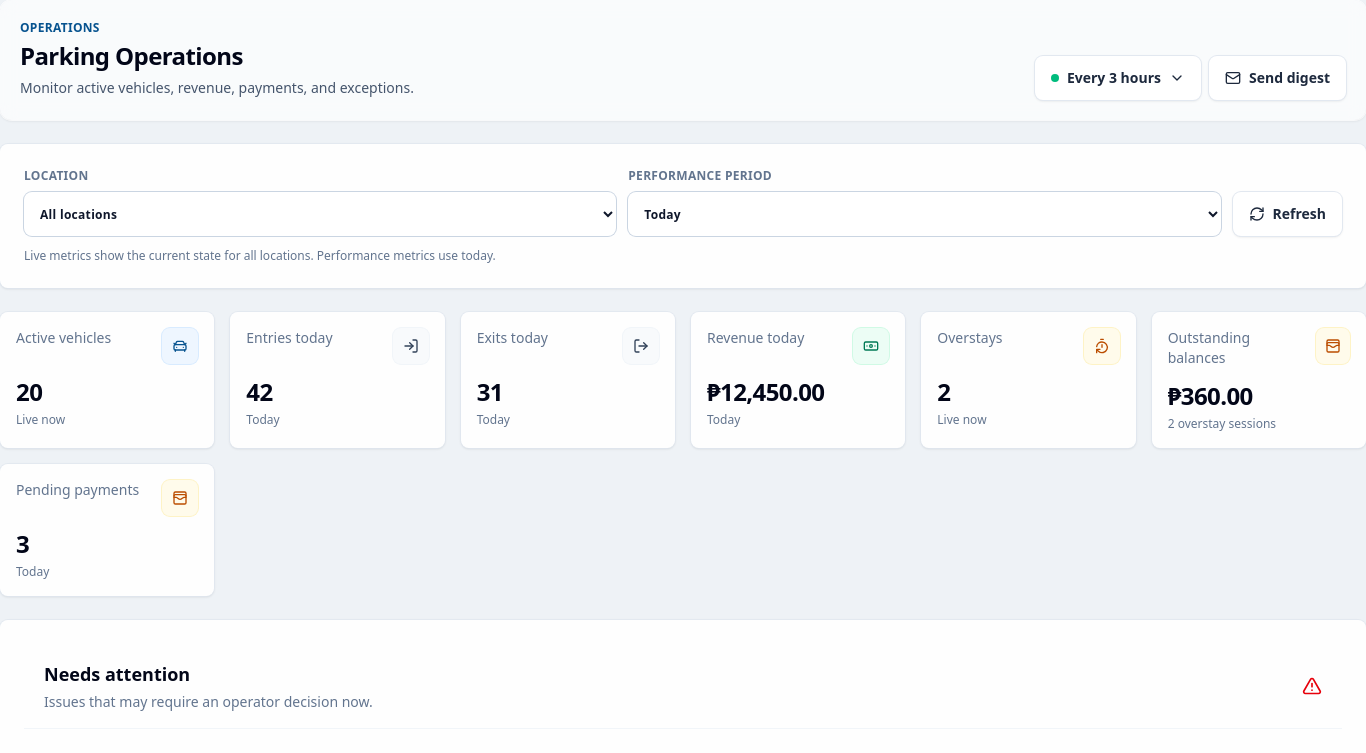
ReportsPage operations overview › saves a tenant-specific automatic digest schedule
The image size is (1366, 753).
Click the button "Every 3 hours": [1118, 78] box left=1035, top=56, right=1201, bottom=100
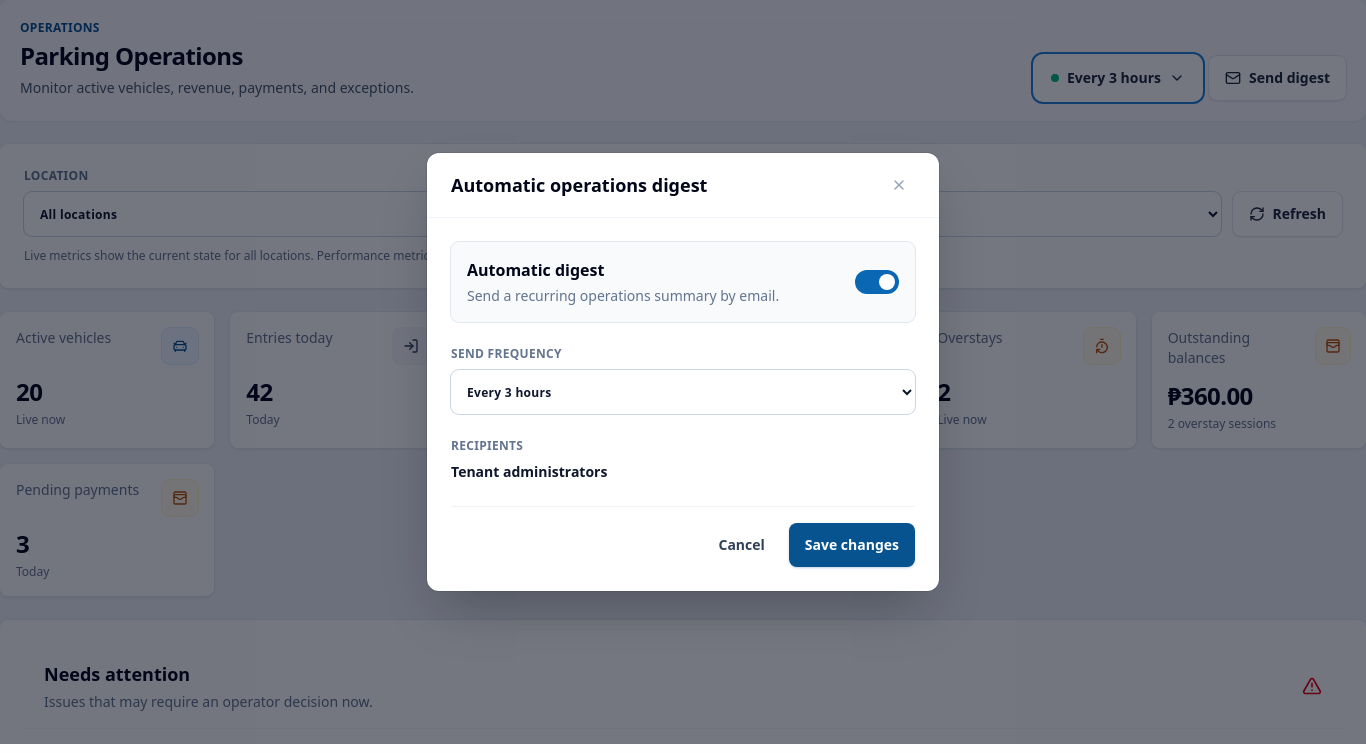
Result: the dialog "Automatic operations digest" is shown at left=427, top=153, right=939, bottom=591
Select "Every 6 hours" in the dropdown named "Digest interval in hours": [683, 392] box left=451, top=370, right=915, bottom=414
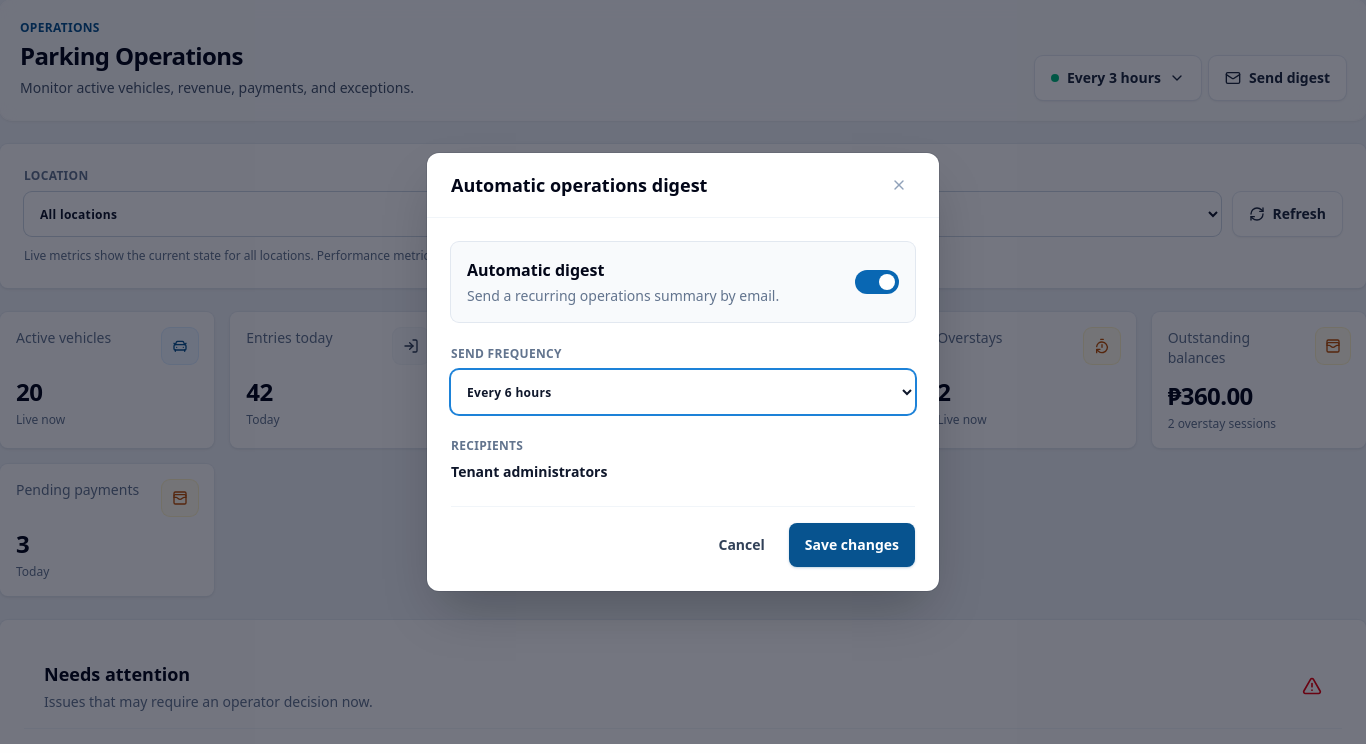
Click the switch named "Automatic operations digest": [877, 282] box left=855, top=270, right=899, bottom=294
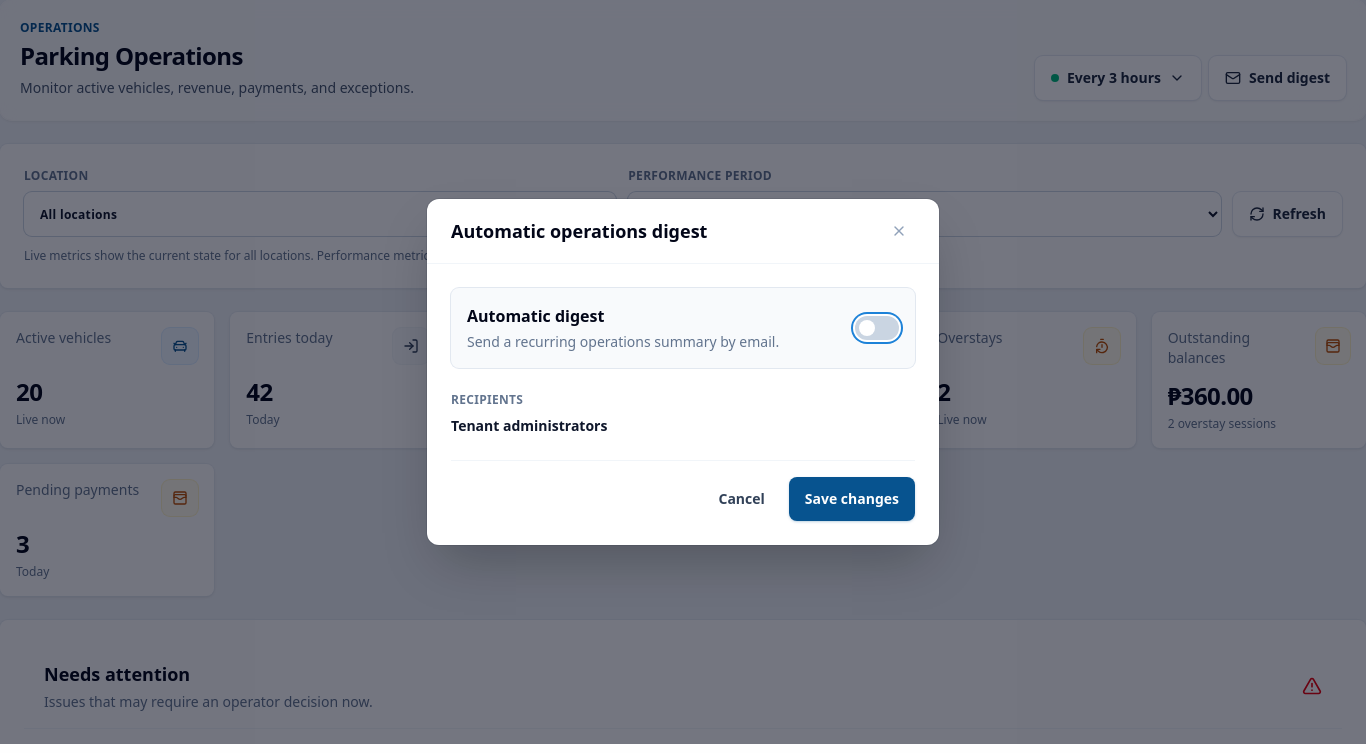
Click the button "Save changes": [852, 499] box left=789, top=477, right=915, bottom=521
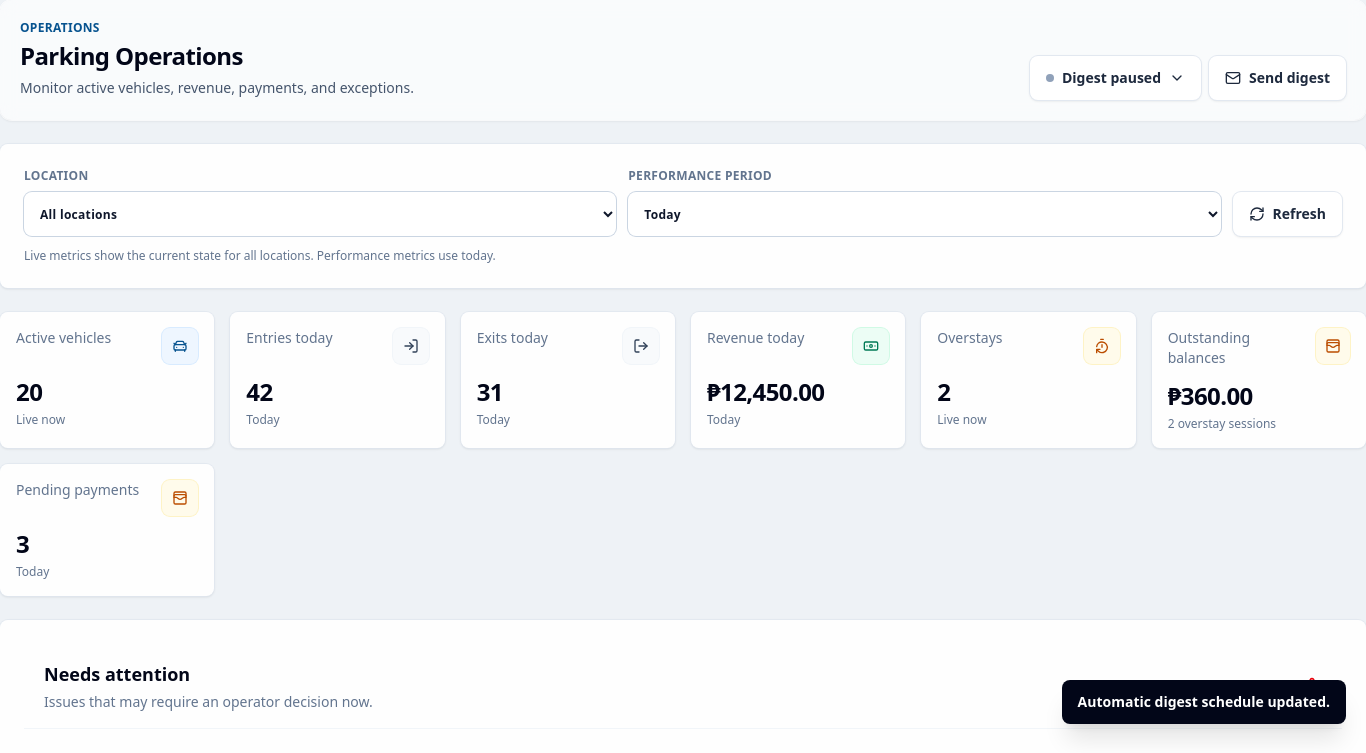
Result: the text "Automatic digest schedule updated." is shown at left=1062, top=680, right=1346, bottom=724
Result: the button "Digest paused" is shown at left=1030, top=56, right=1201, bottom=100
Result: the heading "Automatic operations digest" is gone
